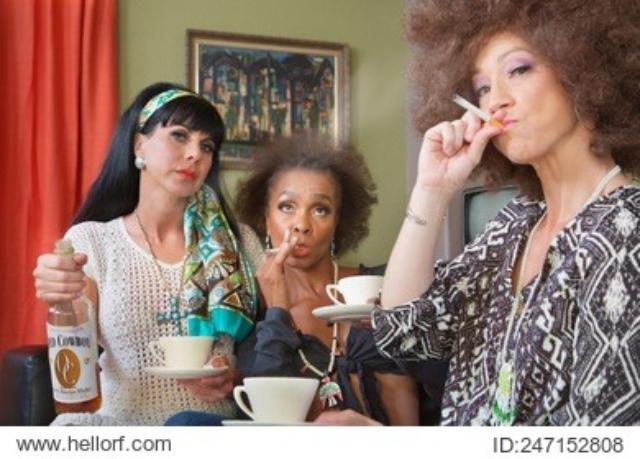SafeDriving: (503, 52, 538, 88), (468, 71, 496, 104), (276, 194, 300, 218), (307, 198, 332, 221), (166, 124, 190, 146), (196, 136, 216, 154)
Smoking: (448, 90, 508, 134), (264, 242, 288, 263)
